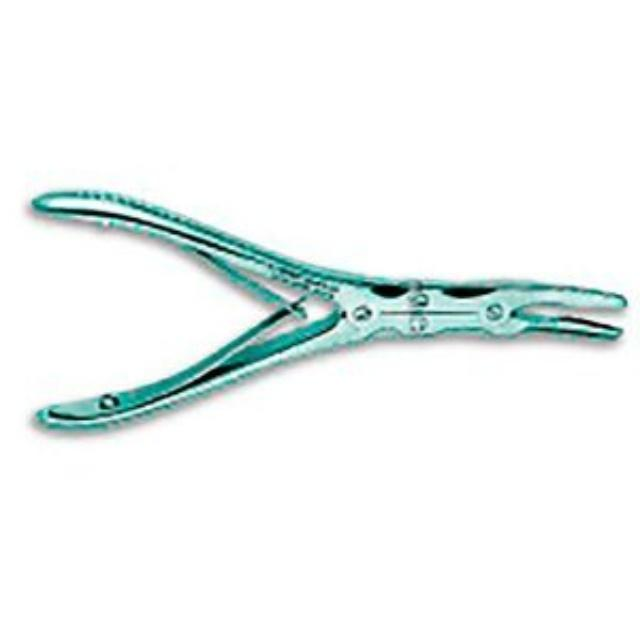gubia: (27, 189, 631, 438)
